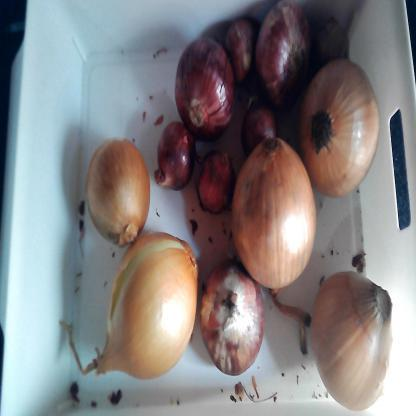onion: (106, 236, 202, 391), (300, 47, 387, 208), (312, 261, 400, 416), (236, 133, 319, 297), (84, 135, 156, 241), (172, 34, 236, 139), (256, 0, 314, 115), (153, 116, 199, 197), (195, 144, 238, 217)
